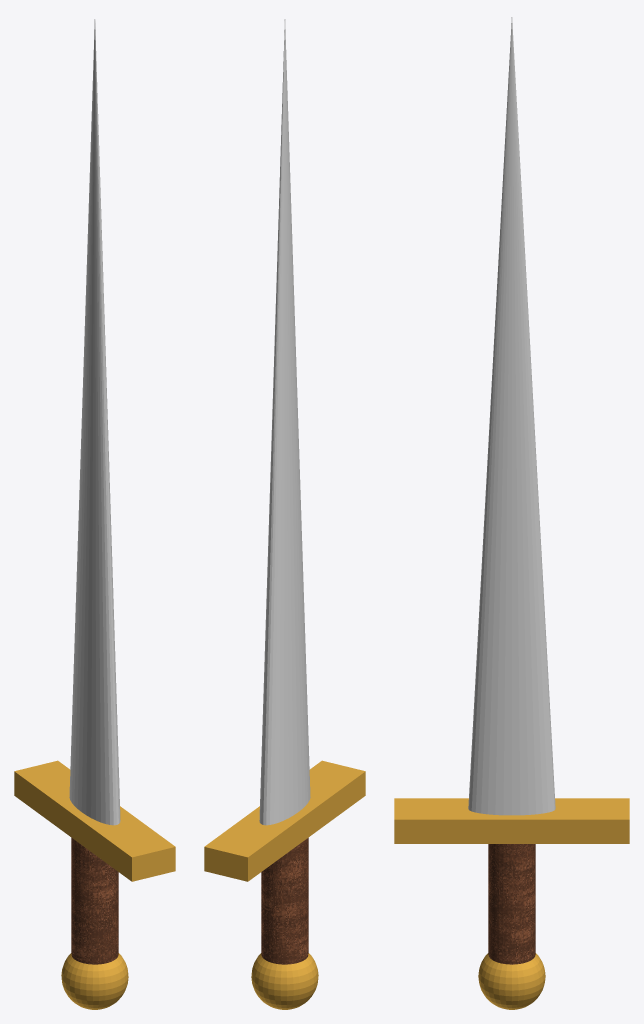
File: epee.glb
3 views of the same model, side by side, from view 1: azimuth 30°, elevation 25°; view 2: azimuth 150°, elevation 25°; view 3: azimuth 270°, elevation 25° (orthographic).
Visible parts, largest first — view 1: Cone, Cube, Cylinder, Sphere; view 2: Cone, Cube, Cylinder, Sphere; view 3: Cone, Cube, Cylinder, Sphere.
Boxes of the visible parts, left/top/right/bottom form: Cone: left=69, top=19, right=120, bottom=825; Cube: left=14, top=760, right=175, bottom=881; Cylinder: left=71, top=837, right=118, bottom=964; Sphere: left=61, top=953, right=128, bottom=1009; Cone: left=259, top=19, right=310, bottom=825; Cube: left=204, top=760, right=365, bottom=881; Cylinder: left=261, top=837, right=308, bottom=964; Sphere: left=251, top=953, right=318, bottom=1009; Cone: left=468, top=17, right=555, bottom=815; Cube: left=394, top=798, right=629, bottom=843; Cylinder: left=488, top=844, right=535, bottom=964; Sphere: left=478, top=953, right=545, bottom=1009.
Bounding box in the file's own units: 2 × 32.56 × 7.
Materials: 4 (1 with a texture image).
